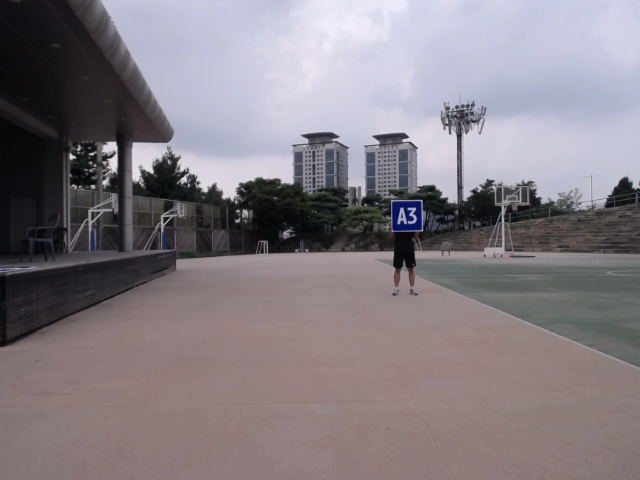delivery_a3: (391, 200, 422, 232)
